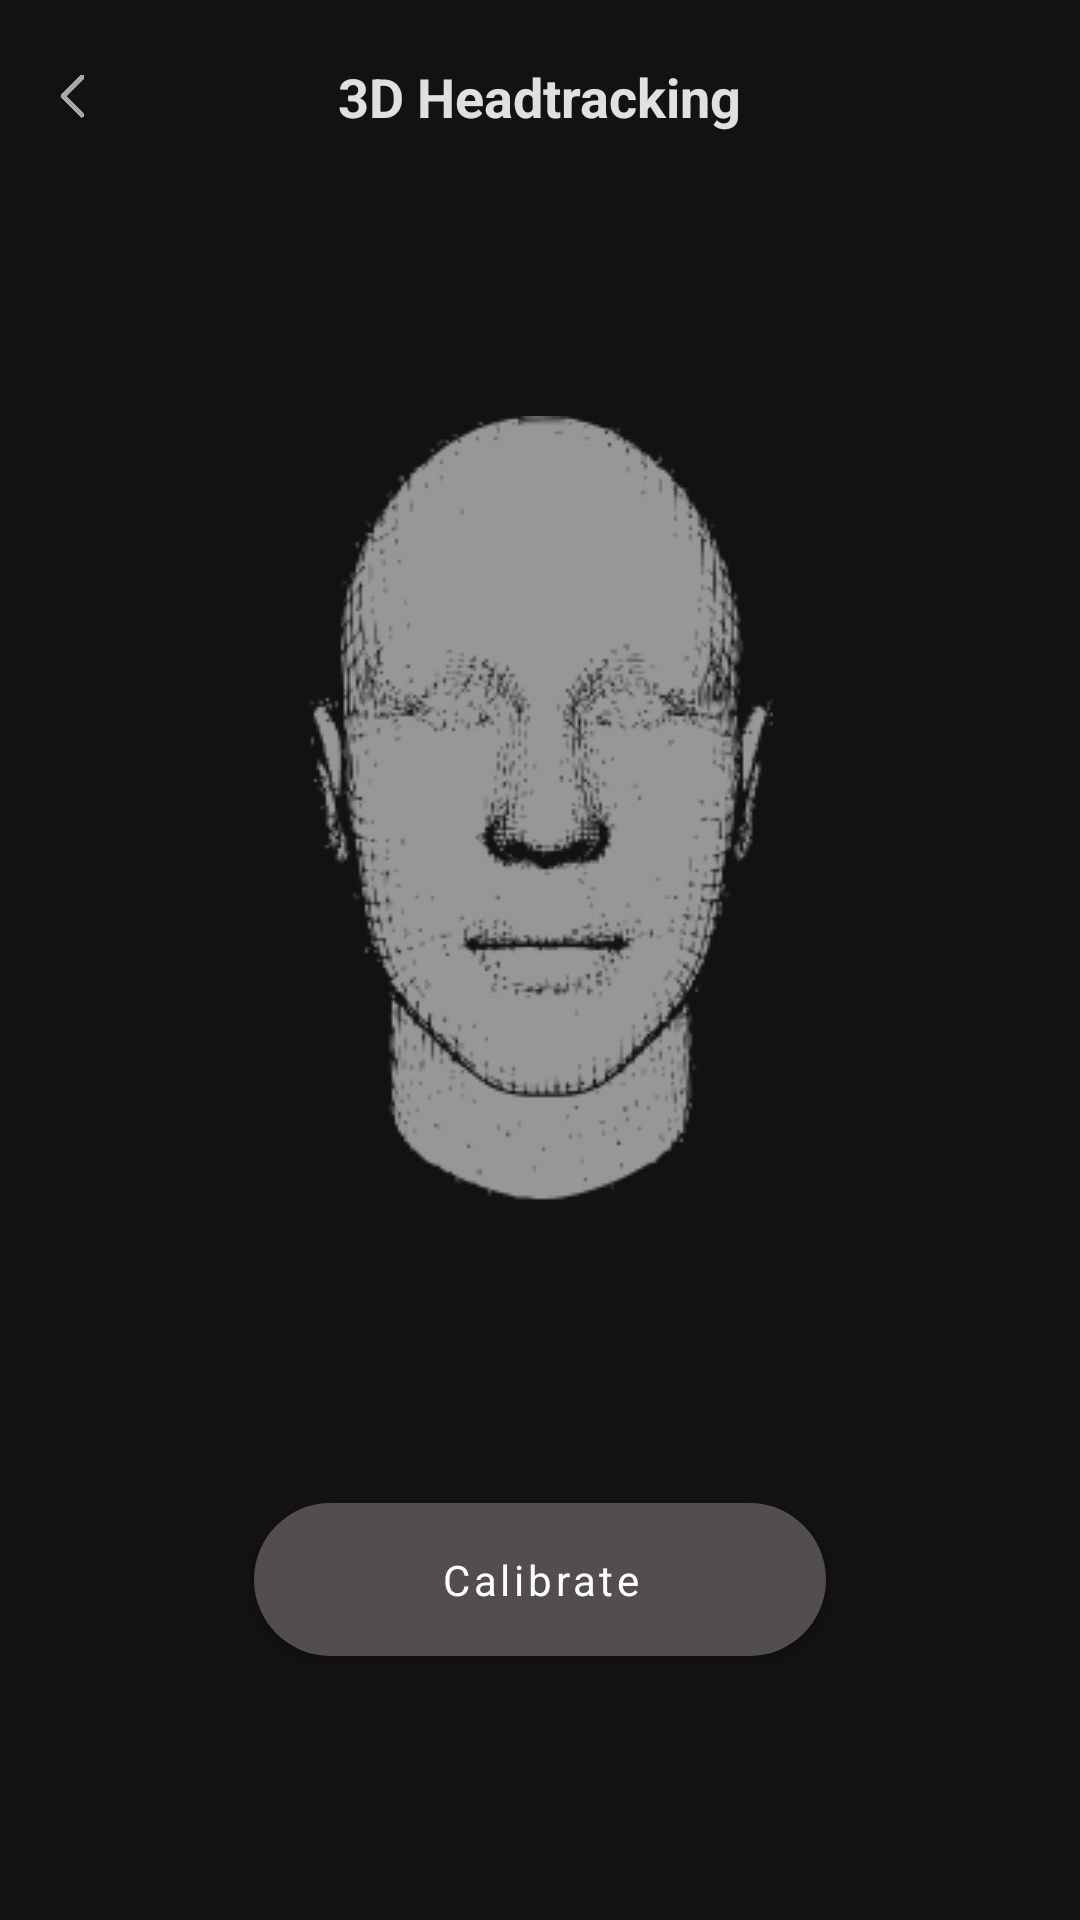

Where to tap for icons on this 1080x1920 app screen, as (x,y):
back: (72,96)
